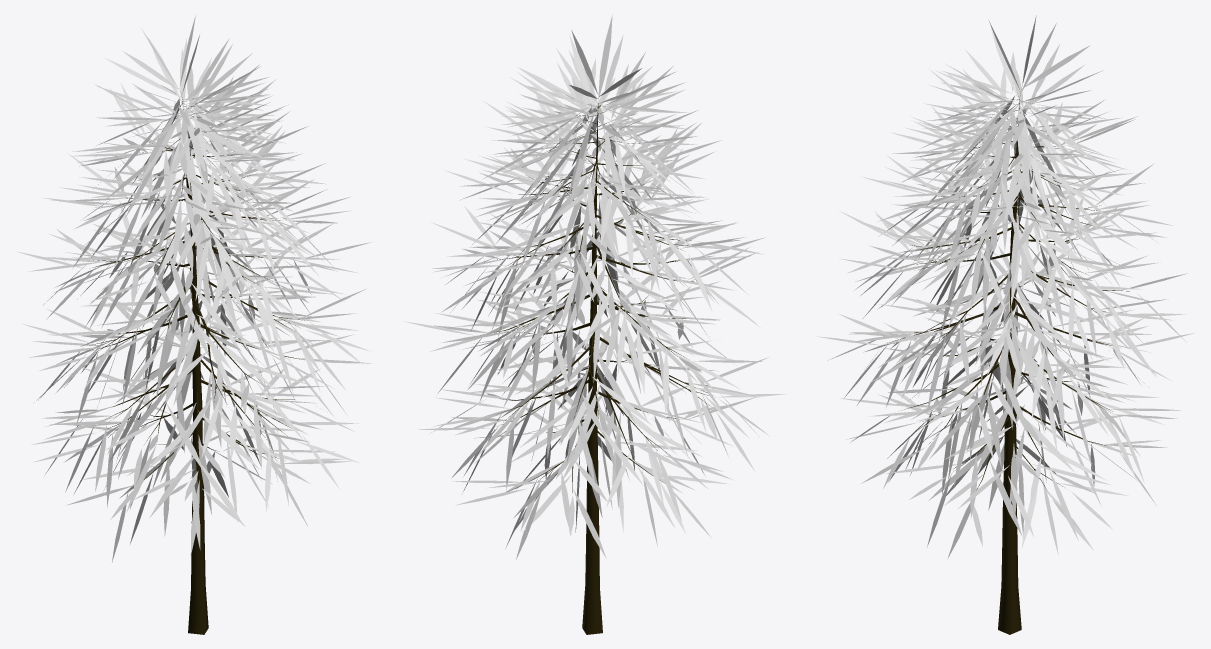
File: LowPolyTree3.fbx
The picture shows the model from 3 angles, left to right: view 1: azimuth 30°, elevation 25°; view 2: azimuth 150°, elevation 25°; view 3: azimuth 270°, elevation 25°; orthographic projection.
Visible parts, largest first — view 1: tree; view 2: tree; view 3: tree.
Part boxes in pixels (<box>): tree: <box>15,15,371,634</box>; tree: <box>403,14,786,634</box>; tree: <box>816,15,1194,634</box>.
Size of the model in its own units: 2865 by 5211 by 2964.
